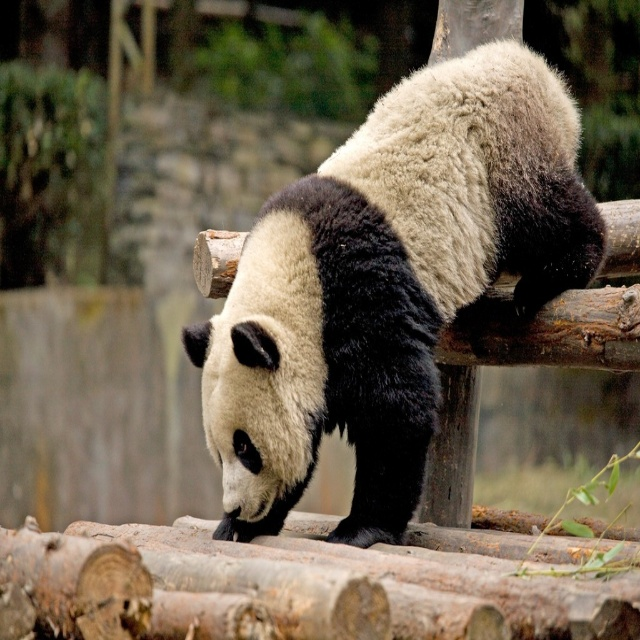Panda: (179, 31, 608, 552)
